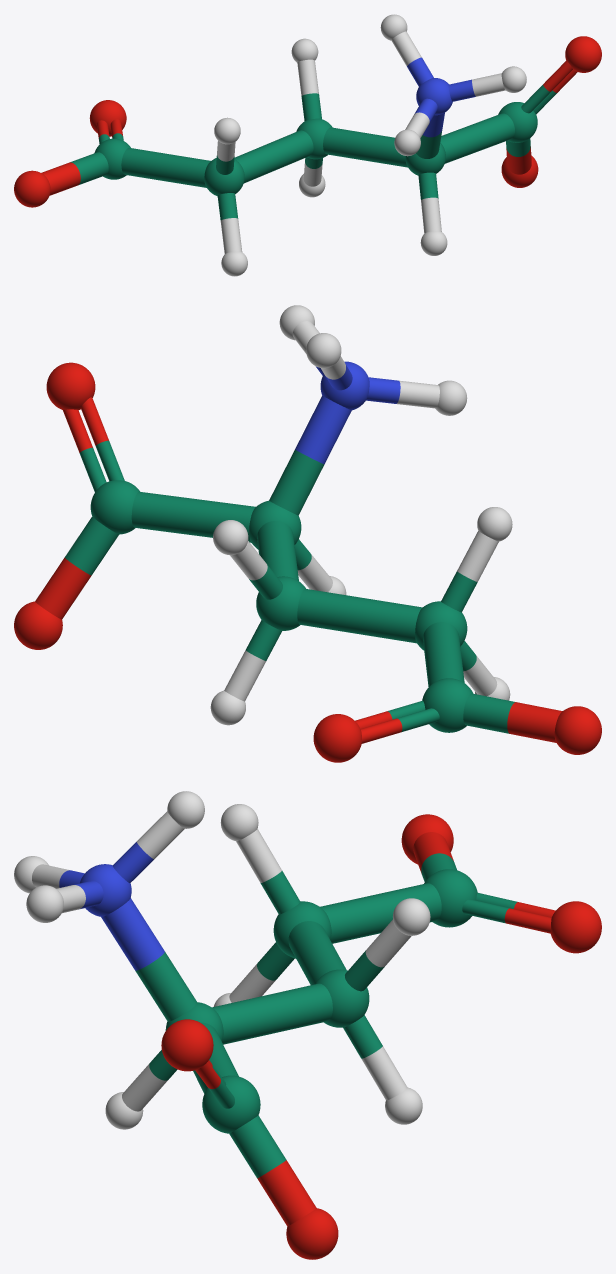
File: GLU.PDB.glb
3 views of the same model, one above another, from view 1: azimuth 30°, elevation 25°; view 2: azimuth 150°, elevation 25°; view 3: azimuth 270°, elevation 25° (orthographic). The views are drawn at different scales.
Size of the model in its own units: 7.12 by 3.34 by 5.14.
